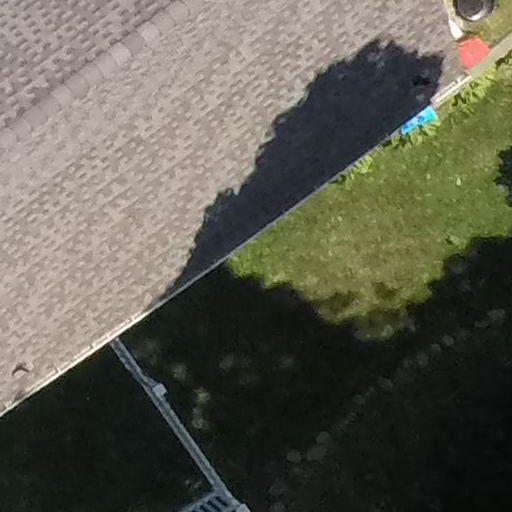container: (450, 2, 494, 21)
